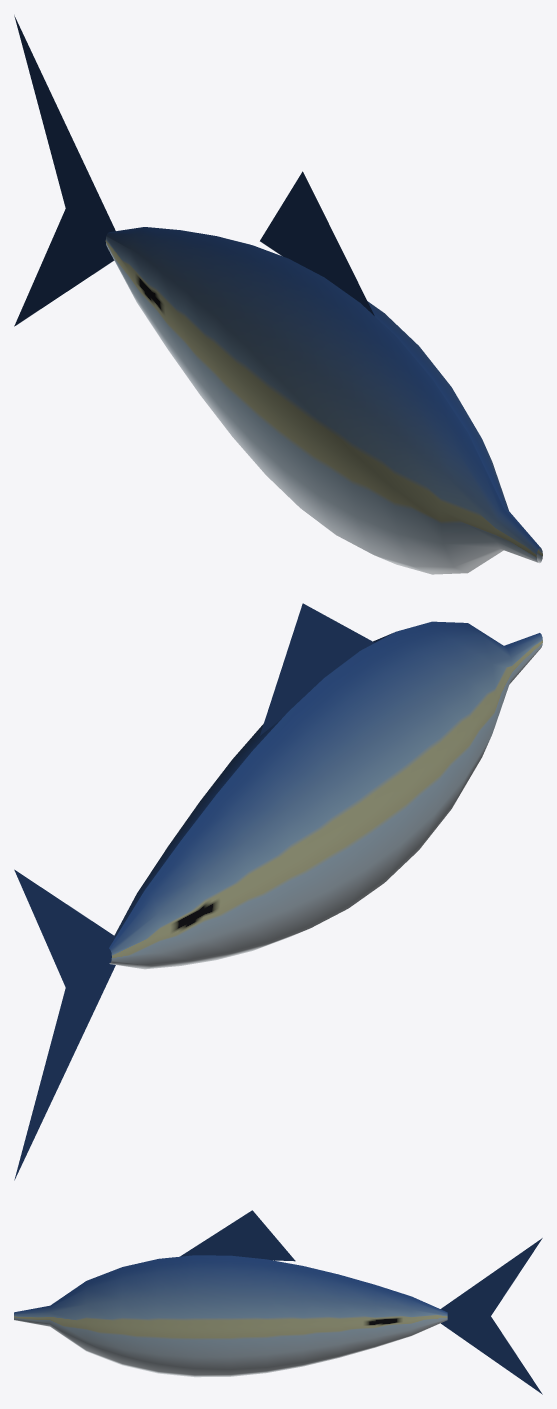
Rendered from fish.glb.
3 views of the same model, one above another, from view 1: azimuth 30°, elevation 25°; view 2: azimuth 150°, elevation 25°; view 3: azimuth 270°, elevation 25° (orthographic). The views are drawn at different scales.
Bounding box in the file's own units: 0.1303 × 0.47 × 1.22.
1 material, 1 textured.
